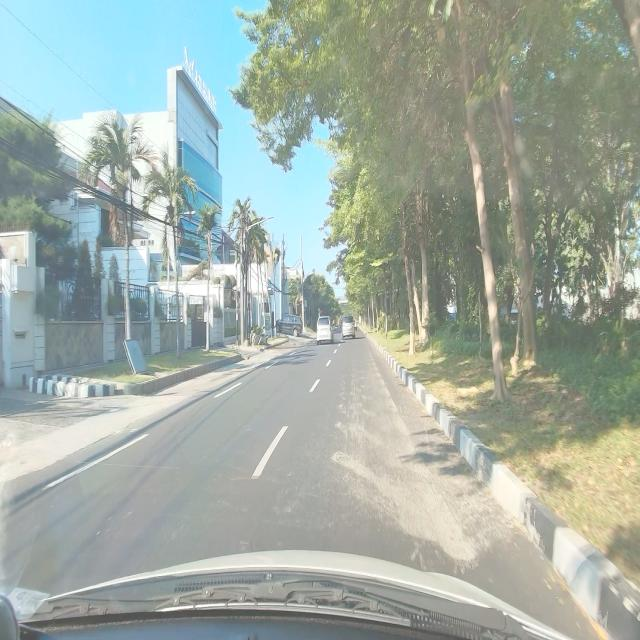car: (316, 315, 334, 346), (342, 314, 356, 341)
